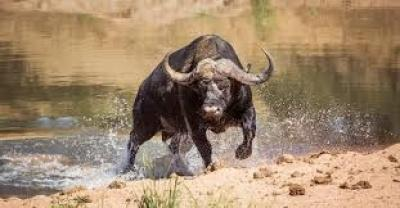buffalo: (122, 34, 273, 172)
